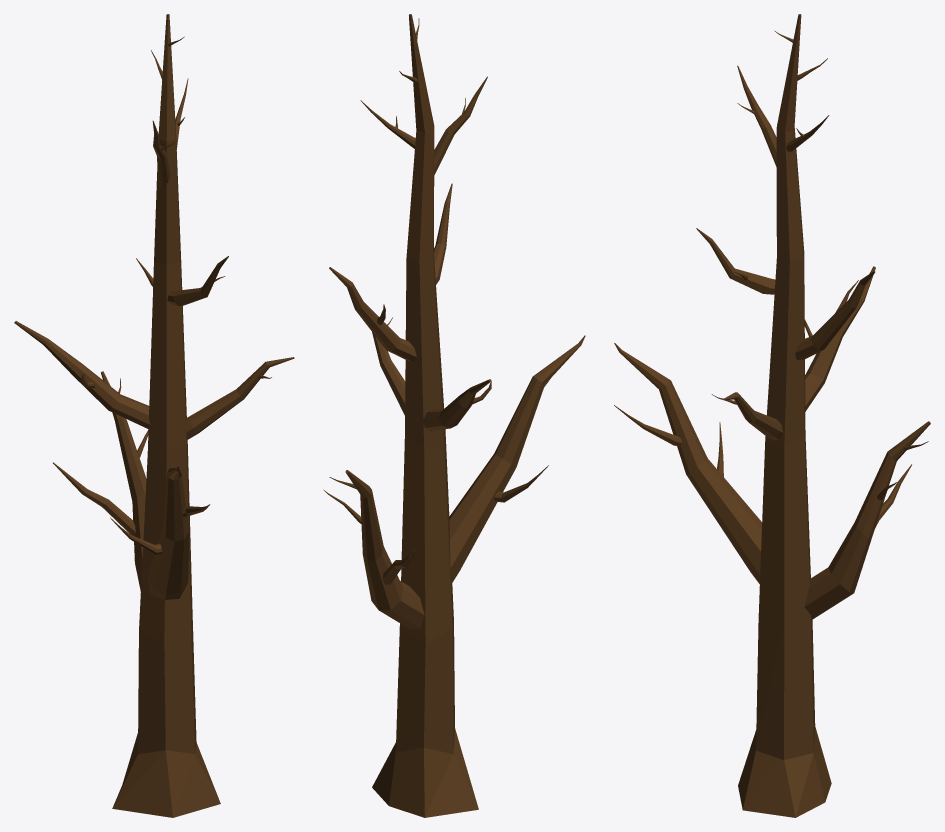
Rendered from Pine_Dead.fbx.
3 renders of one model, left to right at view 1: azimuth 30°, elevation 25°; view 2: azimuth 150°, elevation 25°; view 3: azimuth 270°, elevation 25°, orthographic.
Parts seen in each view (by area): view 1: Pine_D; view 2: Pine_D; view 3: Pine_D.
Part boxes in pixels (<box>): Pine_D: <box>14,14,294,817</box>; Pine_D: <box>323,14,585,817</box>; Pine_D: <box>614,14,930,817</box>.
Size of the model in its own units: 439 by 1576 by 578.
